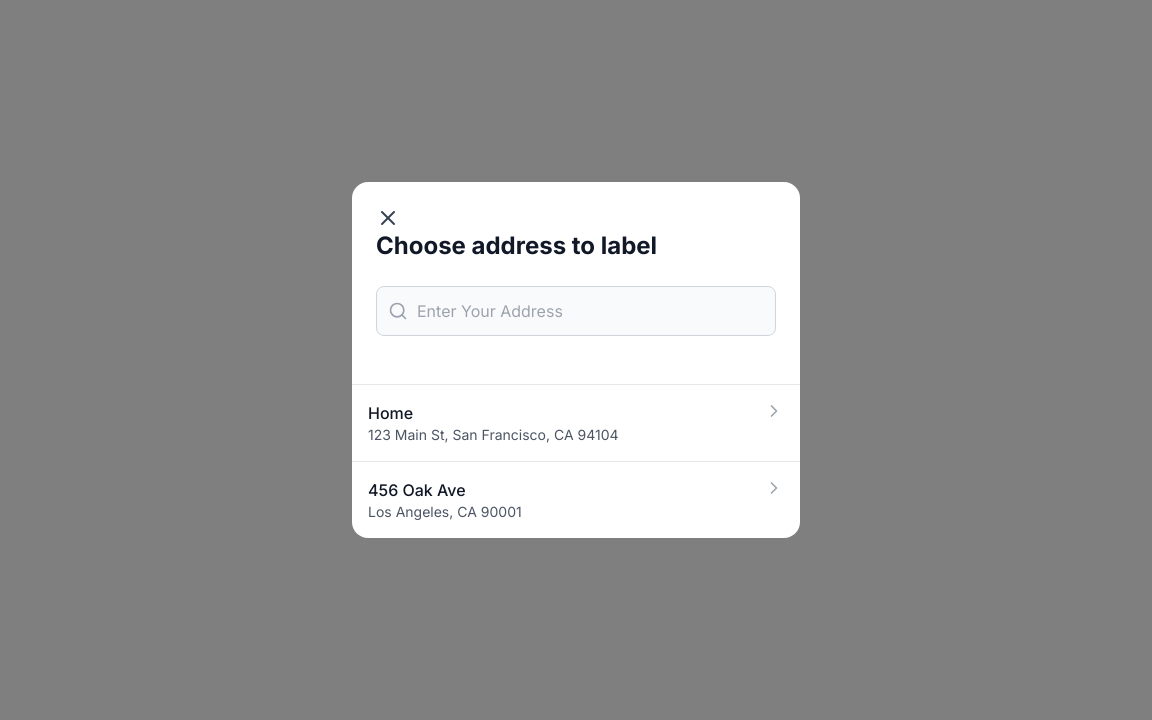
it: ChooseAddressLabelModal › should filter addresses based on search query
The width and height of the screenshot is (1152, 720).
In the field with placeholder "Enter Your Address": [576, 311] box [376, 286, 776, 336], type "Oak"
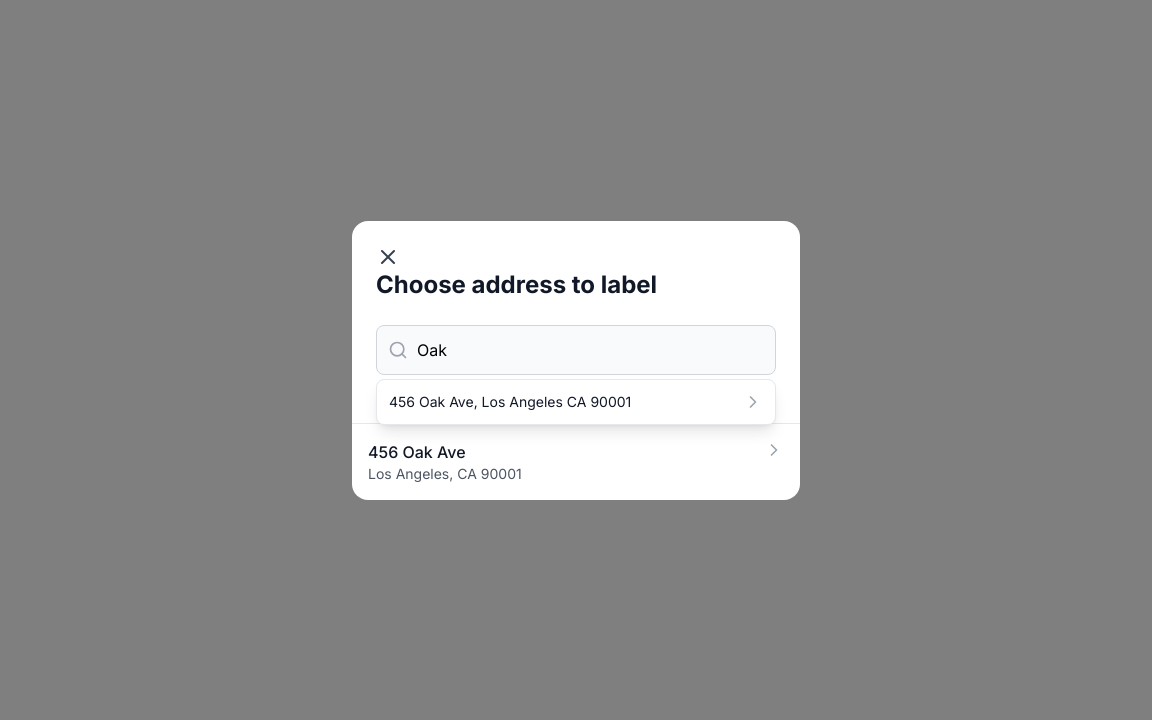
Check: the text "456 Oak Ave" is shown, box [368, 442, 466, 462]
Check: the text "Home" is gone
Check: the text "123 Main St" is gone
